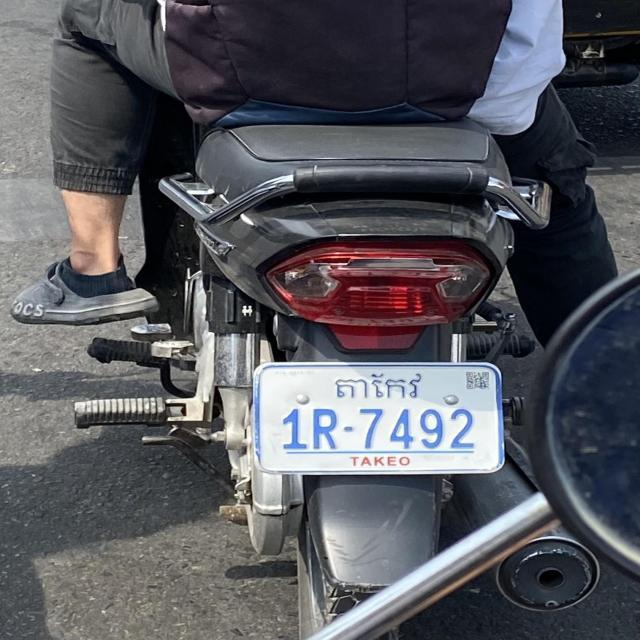Takeo: (334, 371, 422, 402)
